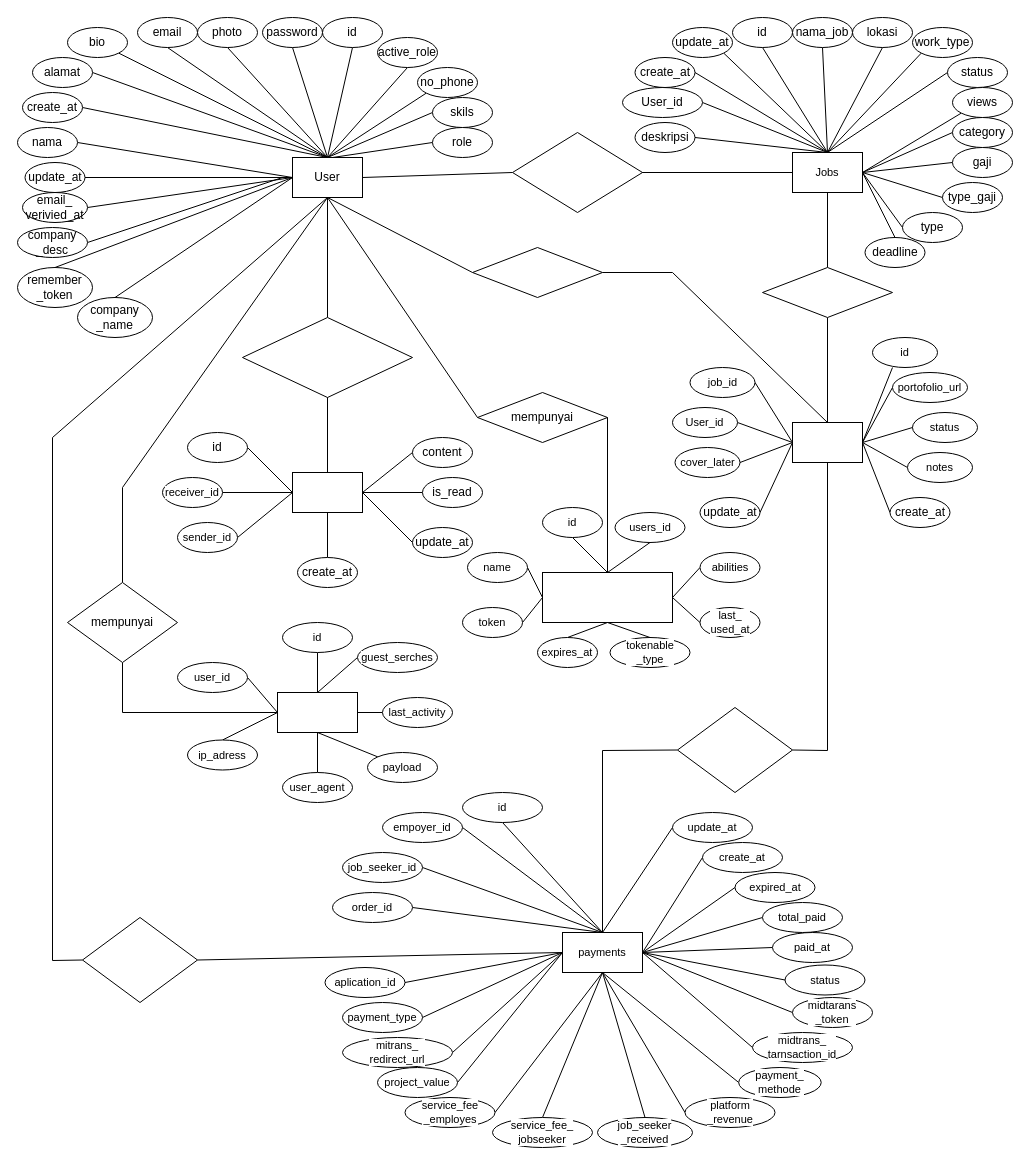
The diagram is 1030 pixels wide and 1165 high, and some of its shapes have lost their labels. Each missing label, with the centre of its shape:
"di ajukan" goes at (x=827, y=292).
"lamaran" goes at (x=827, y=442).
"meesages" goes at (x=327, y=492).
"membayar/dibayar" goes at (x=140, y=959).
"membuat" goes at (x=577, y=172).
"mengajukan" goes at (x=537, y=272).
"mengrim/menerima" goes at (x=327, y=357).
"personal_acces_token" goes at (x=607, y=597).
"session" goes at (x=317, y=712).
"terbayar" goes at (x=734, y=749).
